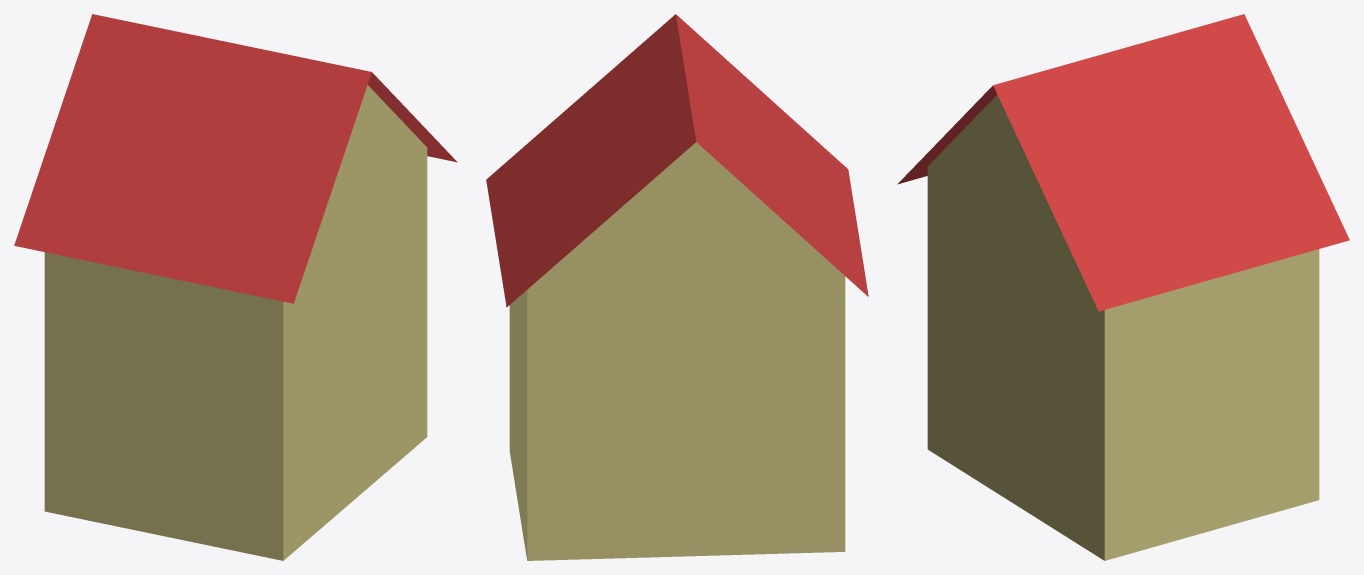
3 renders of one model, left to right at view 1: azimuth 30°, elevation 25°; view 2: azimuth 150°, elevation 25°; view 3: azimuth 270°, elevation 25°, orthographic. The views are drawn at different scales.
Parts seen in each view (by area): view 1: group_5, group_3, group_4; view 2: group_5, group_3, group_4; view 3: group_5, group_3, group_4.
Boxes of the visible parts, x1,y1,x2,y2 form: group_5: [44, 85, 427, 560]; group_3: [14, 15, 457, 303]; group_4: [61, 14, 371, 303]; group_5: [509, 142, 845, 560]; group_3: [504, 14, 868, 307]; group_4: [486, 14, 848, 306]; group_5: [927, 94, 1319, 560]; group_3: [897, 14, 1349, 306]; group_4: [900, 80, 1348, 311].
Size of the model in its own units: 15.93 by 15.39 by 15.82.
